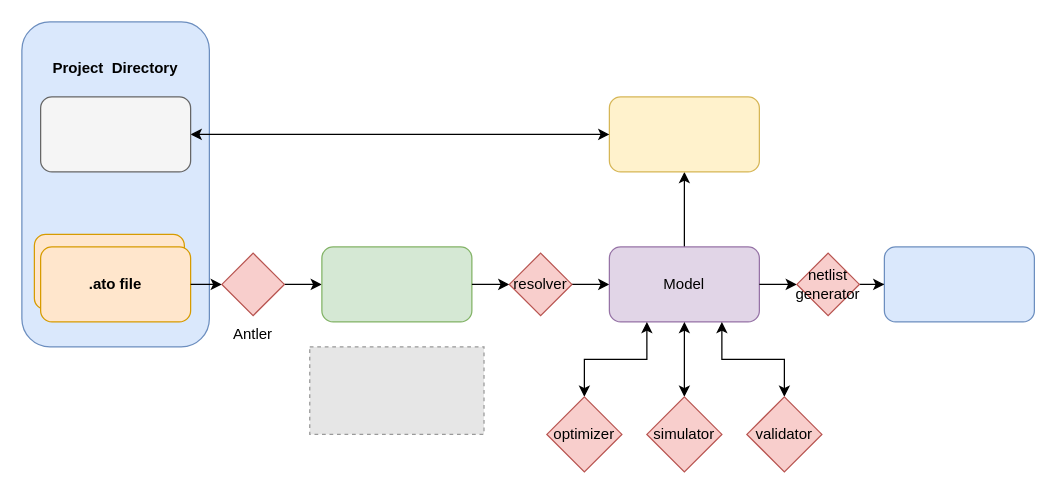
Some shapes in this 1056 by 494 pixel diagram are drawn without their labels. Grey dashed boxes stand in for pictures. The shapes that lost their labels are listed below. From the top down, each one's centre as x and y in pixels, then its label:
At [115,134]: "UI Config".
At [683,134]: "Visualizer".
At [252,284]: "parser".
At [396,284]: "Parse tree".
At [958,284]: "Netlist".
